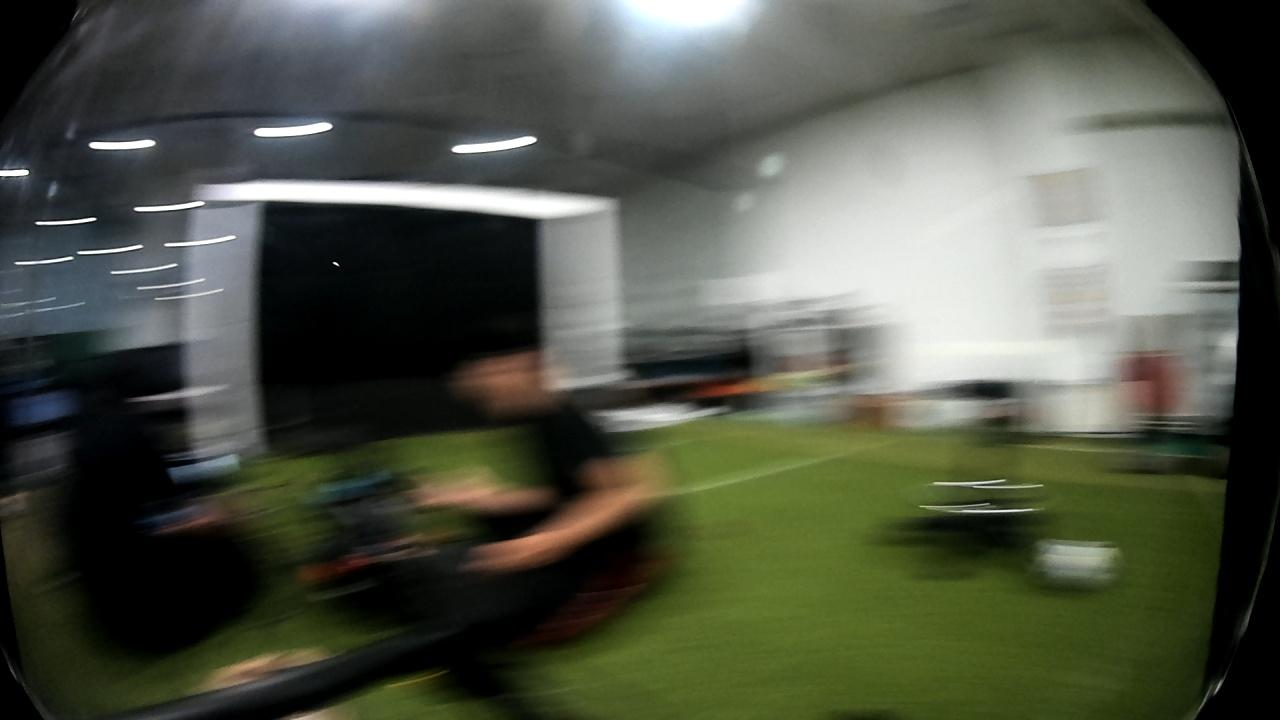ball: (1025, 532, 1126, 594)
